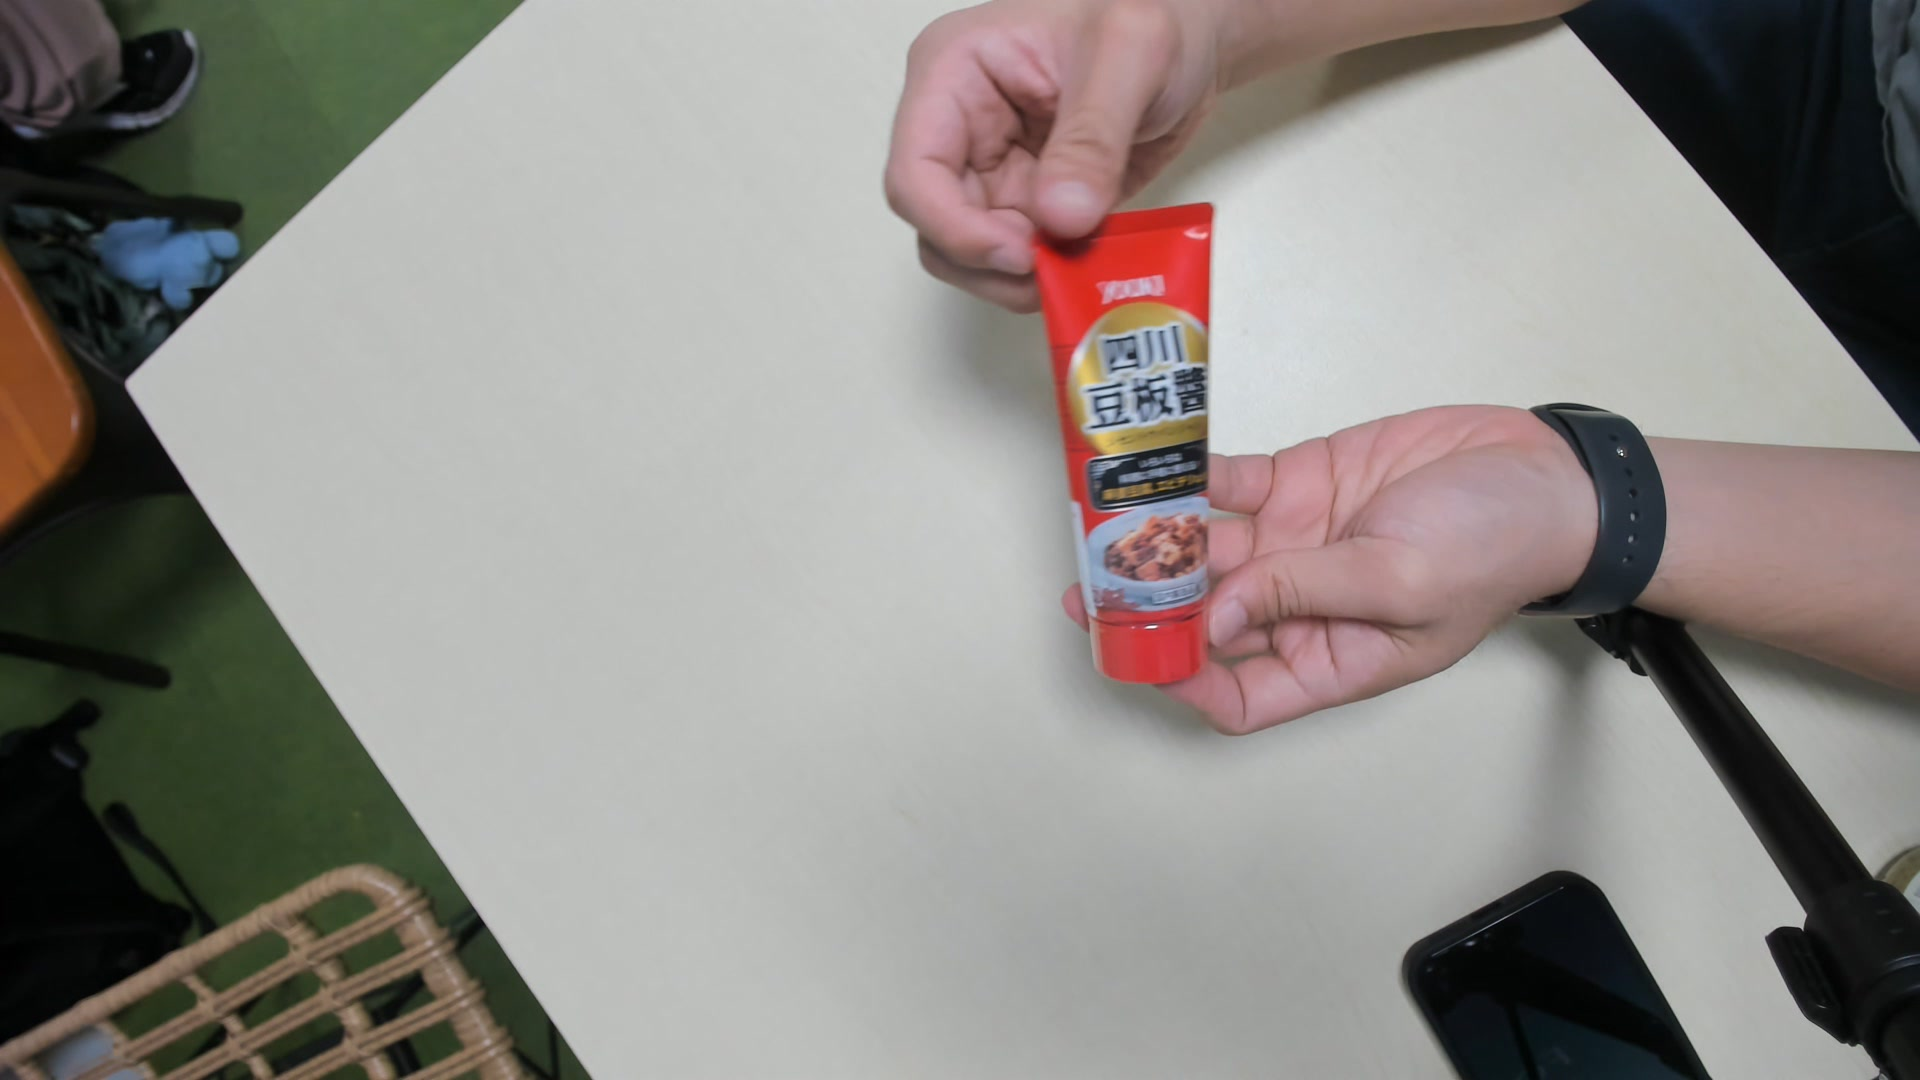OtherSauceDressing_100-199g_NonHalal_NonHealthy: (1031, 206, 1215, 688)
